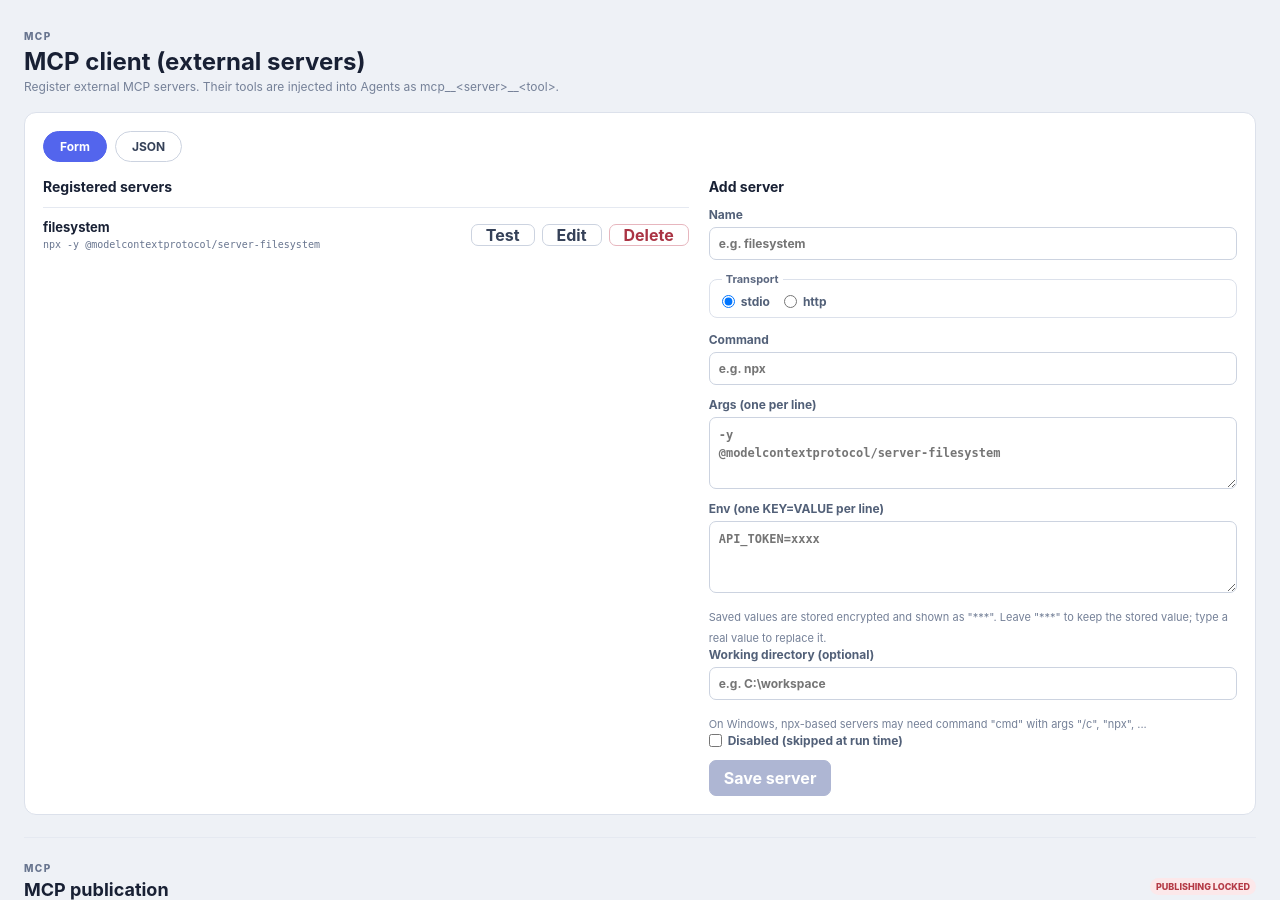
Test case: McpPage › MCPクライアント › テストボタンで接続に成功するとツール一覧をインライン表示する
The image size is (1280, 900).
Click the button "Test". click: coordinates (503, 234)
box: [471,224,534,246]
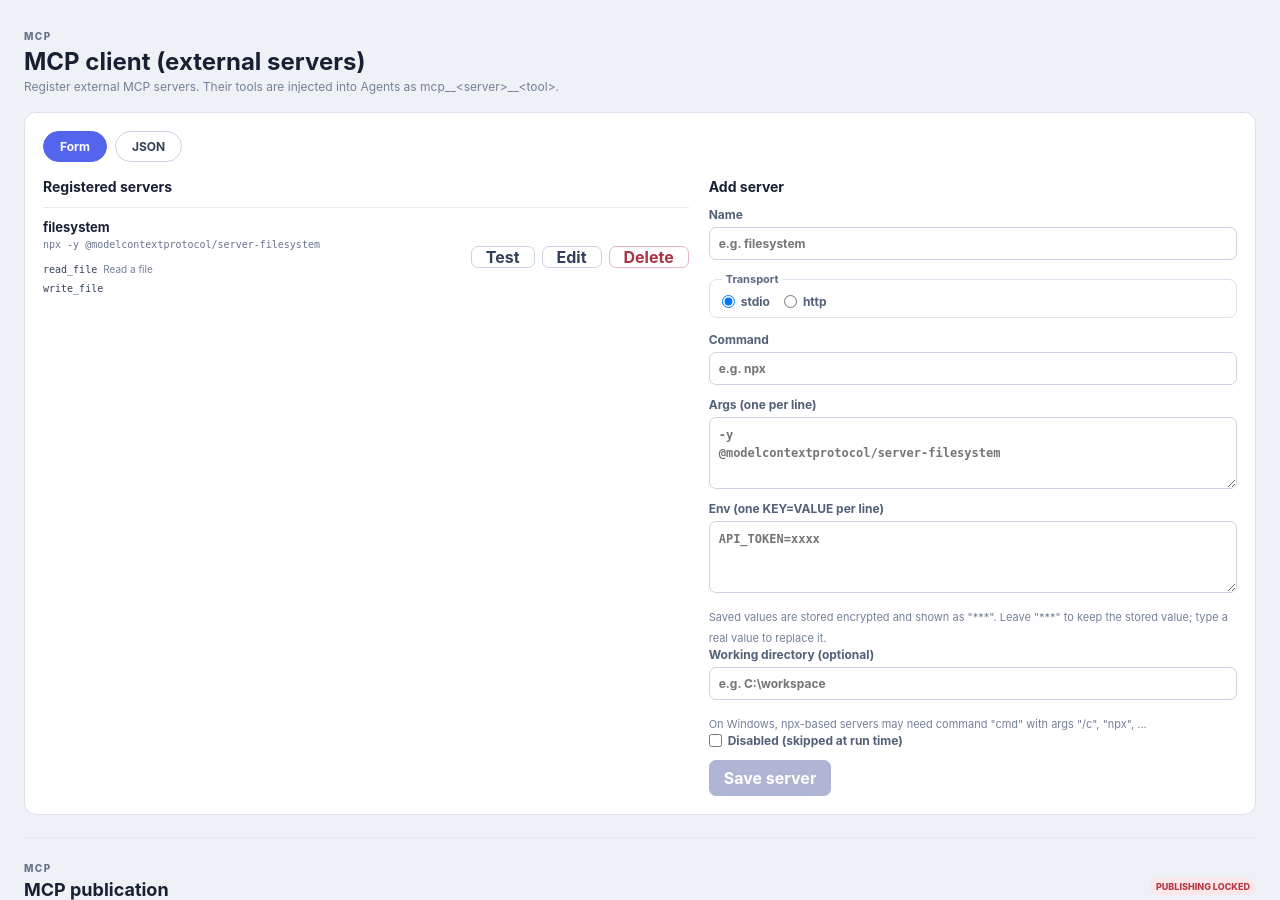
Expected: the text "read_file" is shown, [43,264,97,275]
Expected: the text "Read a file" is shown, [103,263,153,275]
Expected: the text "write_file" is shown, [43,283,103,294]
